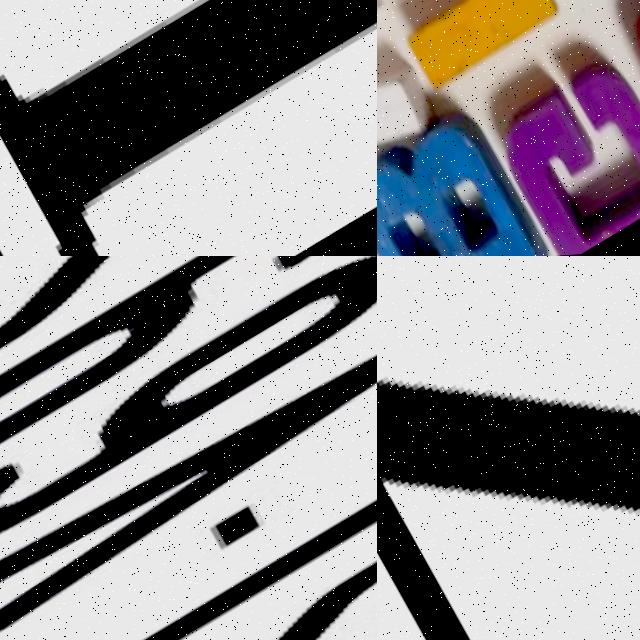6: (0, 256, 377, 572), (72, 553, 377, 640)
9: (0, 256, 377, 503)
B: (377, 93, 556, 256)
G: (487, 60, 640, 256)
L: (0, 0, 377, 256), (377, 0, 565, 100)
S: (0, 256, 347, 437), (38, 470, 377, 640)
T: (7, 416, 377, 640)
V: (0, 304, 377, 640)
Z: (377, 256, 640, 640)
